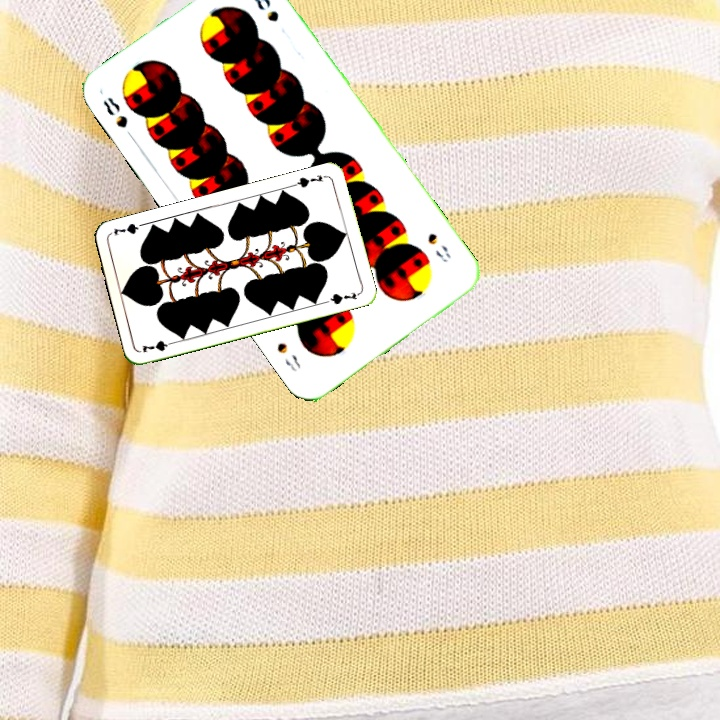G7: (138, 336, 179, 355), (289, 171, 329, 190)
S8: (99, 93, 138, 144), (423, 228, 454, 265)
